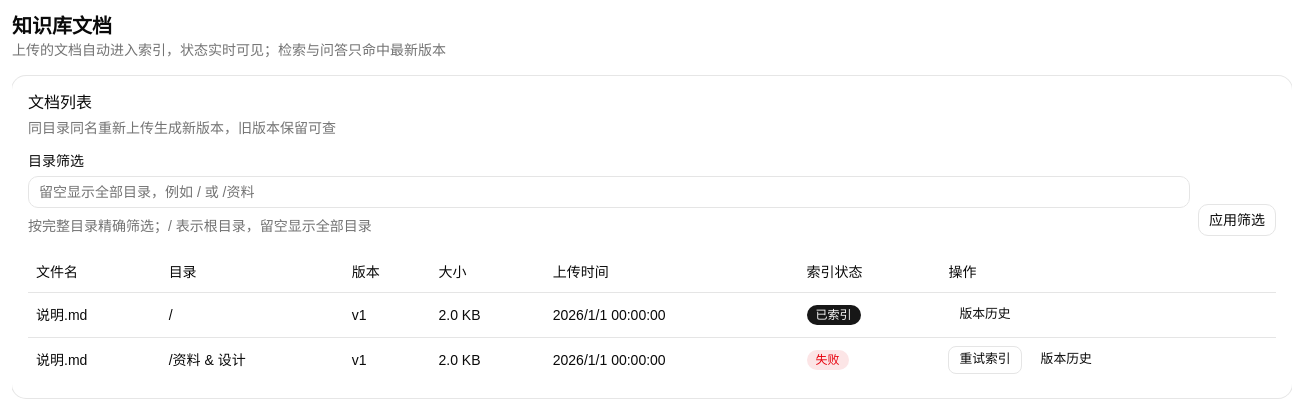
Scenario: DocumentsPage 目录 › 空目录展示空态
In the field labelled "目录筛选": (609,192) x1=28 y1=176 x2=1190 y2=208, type "/empty"
Then press Enter
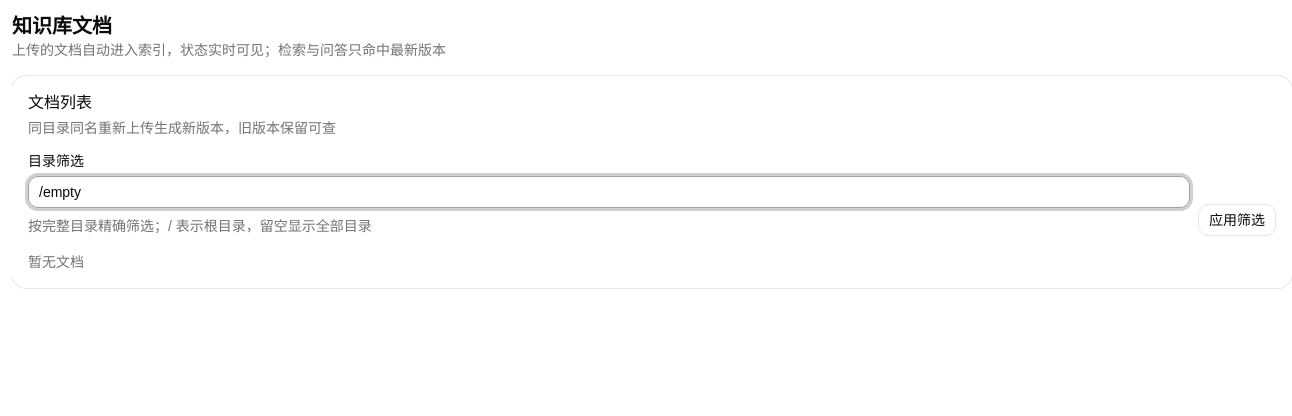
Expected: the text "暂无文档" is shown, x1=28 y1=254 x2=84 y2=270
